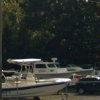Boat: (3, 52, 75, 99)
